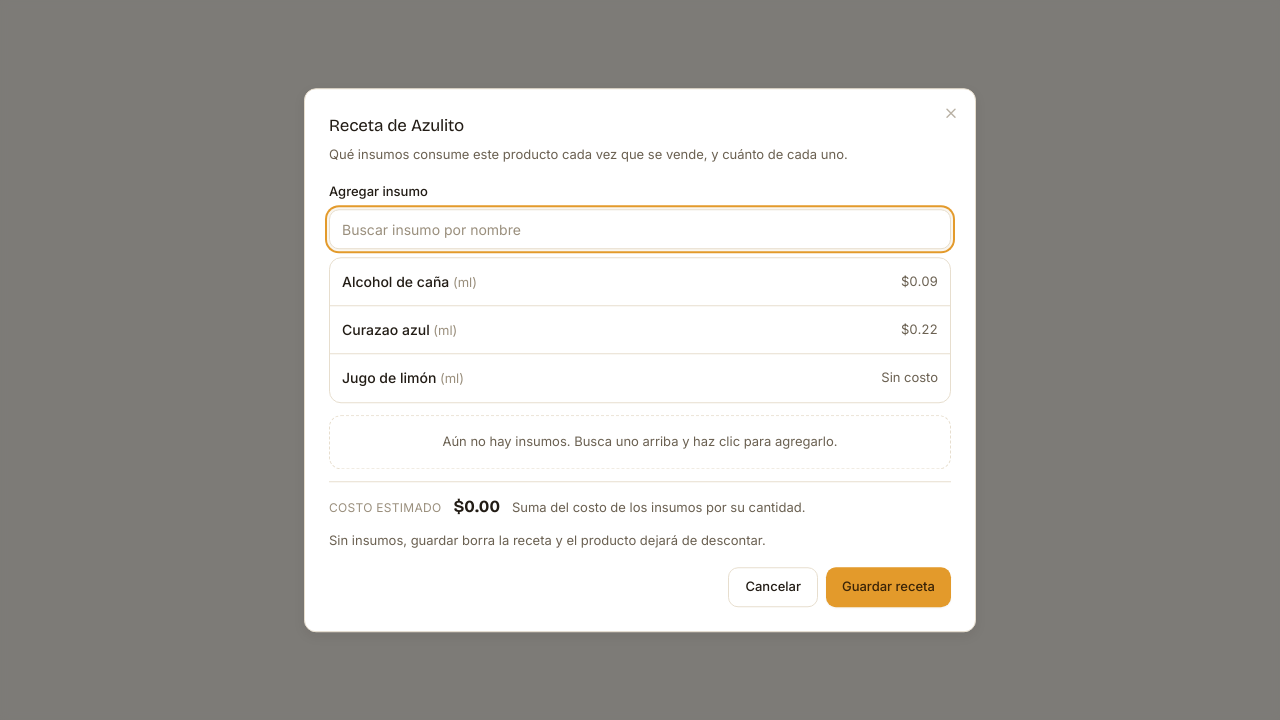
RecetaProductoDialog · varios insumos › no deja guardar un insumo sin cantidad
Step 1. Click the button with aria-label "agregar alcohol de caña" → (396, 282), box [330, 258, 950, 306]
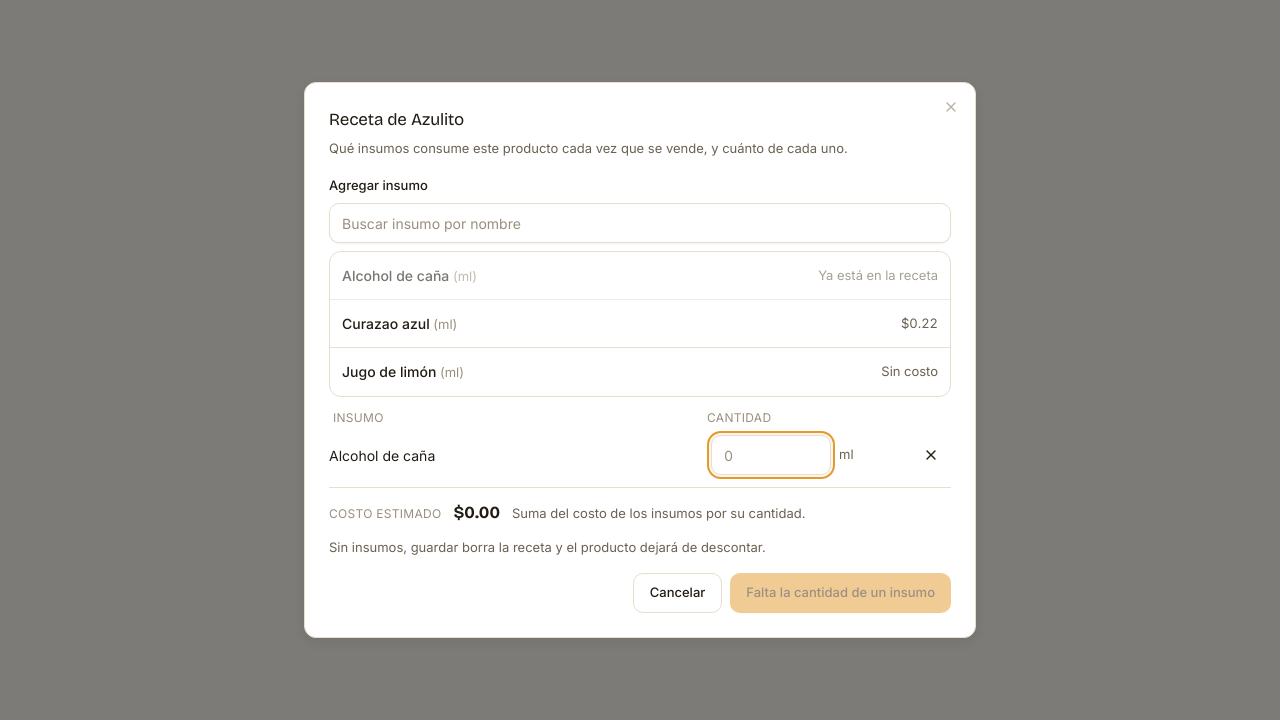
Expected: the button "Falta la cantidad de un insumo" is disabled, [730, 573, 951, 613]
